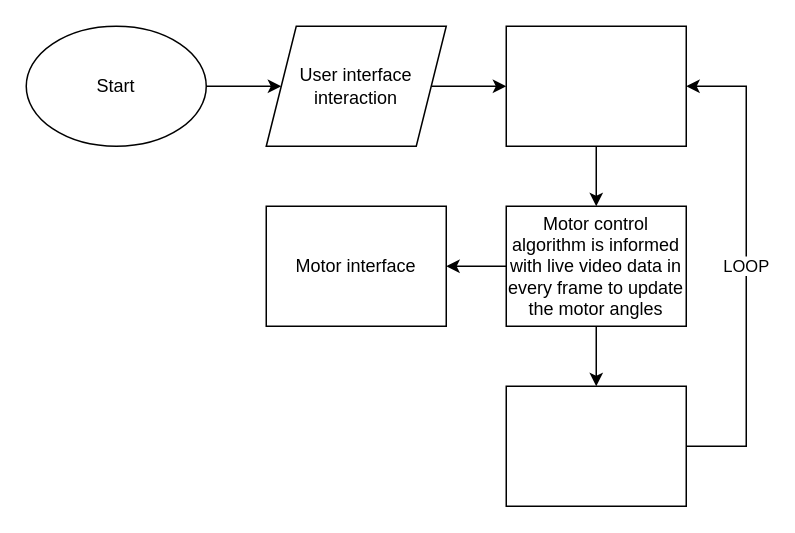
This 795x533 diagram has some shape labels left out. Here are the shapes that lost their labels. From the top down, the box of each, then its label:
(505, 25, 686, 146): Image acquisition and processing
(505, 385, 686, 506): Motor control algorithm updates the user interface
